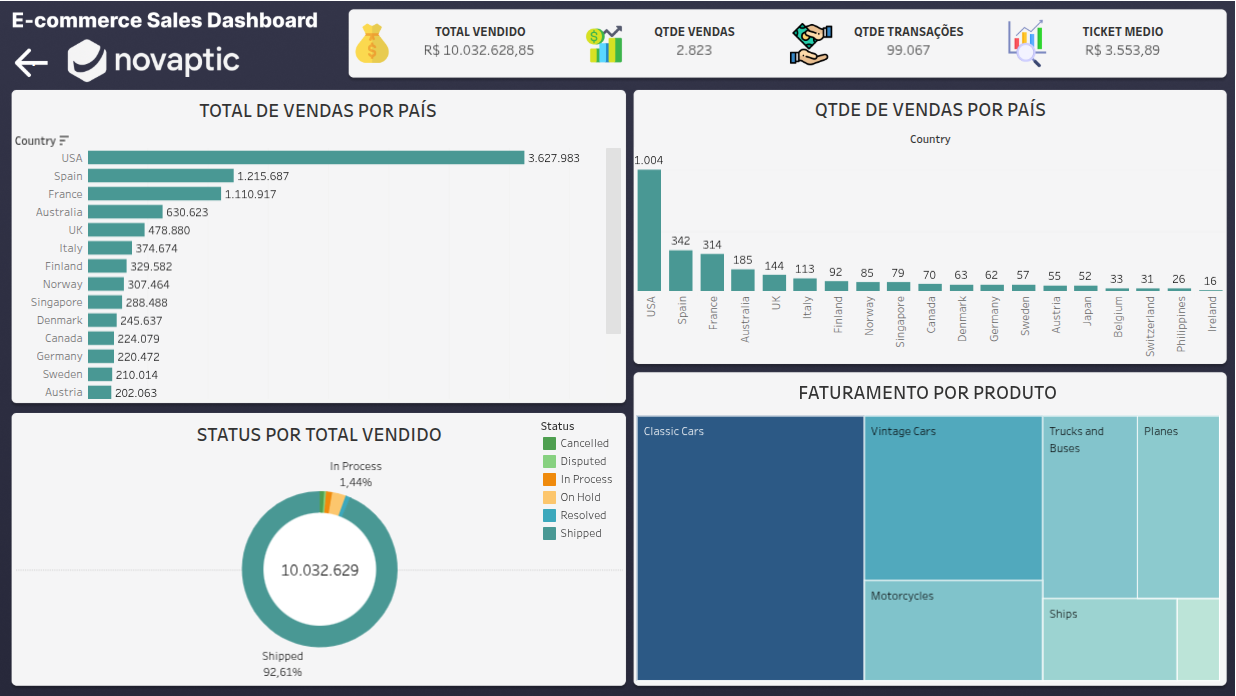

Layout of this report page (visuals, bound fields, positions):
{"tool":"tableau","page":{"name":"Painel Analítico","canvas":[1397,803],"ordinal":1},"visuals":[{"type":"image","param":"Image/Frame 2 (1).png","box":[8,8,1381,787]},{"type":"worksheet","title":"indicadores","mark":"Automatic","box":[427,36,956,71]},{"type":"dashboard-object","box":[27,54,45,48]},{"type":"worksheet","title":"gb_qtvendas","mark":"Automatic","rows":["Calculation_1055561963749403"],"cols":["COUNTRY"],"box":[717,112,658,303]},{"type":"worksheet","title":"gb_totalvendas","mark":"Automatic","rows":["COUNTRY"],"cols":["Calculation_1055561963622426"],"box":[29,113,674,343]},{"type":"legend","title":"Products","param":"[federated.0ohed0y1go40ho14ovx450nn3ylg].[usr:Calculation_1055561963622426:qk]","box":[545,127,160,267]},{"type":"worksheet","title":"Products","mark":"Automatic","box":[716,426,654,345]},{"type":"worksheet","title":"Gs_Vendas","mark":"Pie","rows":["Calculation_1055562717794314","Calculation_1055562717814796"],"box":[30,473,674,298]},{"type":"legend","title":"Gs_Vendas","param":"[federated.0ohed0y1go40ho14ovx450nn3ylg].[none:STATUS:nk]","box":[613,475,92,151]}]}

Visuals, with their boxes in screenshot pixels (x1, y1, x2, y2), scaled from the page's 1397x803 canvas onto the 1236x696 screenshot:
image: l=7, t=7, r=1229, b=689
"indicadores" worksheet: l=378, t=31, r=1224, b=93
dashboard-object: l=24, t=47, r=64, b=88
"gb_qtvendas" worksheet: l=634, t=97, r=1217, b=360
"gb_totalvendas" worksheet: l=26, t=98, r=622, b=395
"Products" legend: l=482, t=110, r=624, b=341
"Products" worksheet: l=633, t=369, r=1212, b=668
"Gs_Vendas" worksheet (Pie marks): l=27, t=410, r=623, b=668
"Gs_Vendas" legend: l=542, t=412, r=624, b=543
